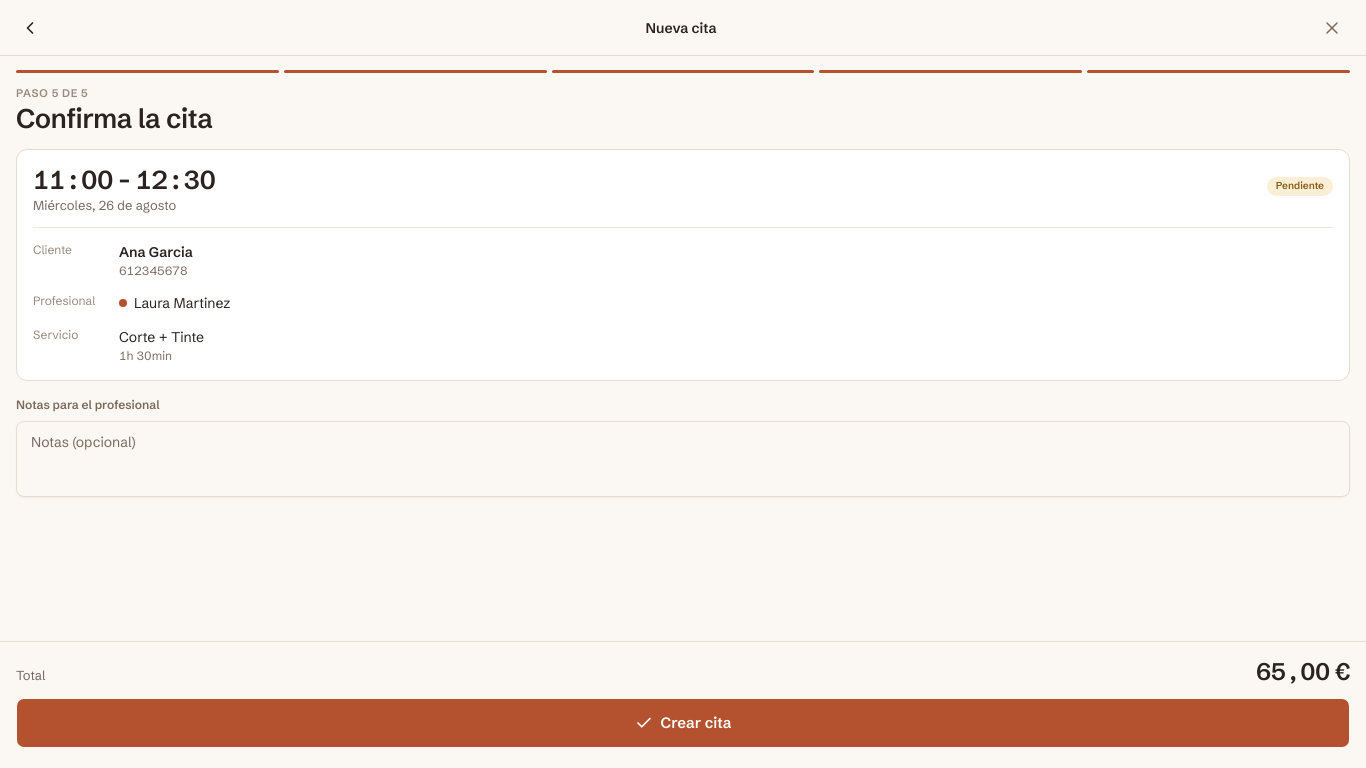
Test: ConfirmationStep › un fallo deja el paso en pie con el mensaje
Click the button "Crear cita": x=683, y=723 [16,698,1350,748]
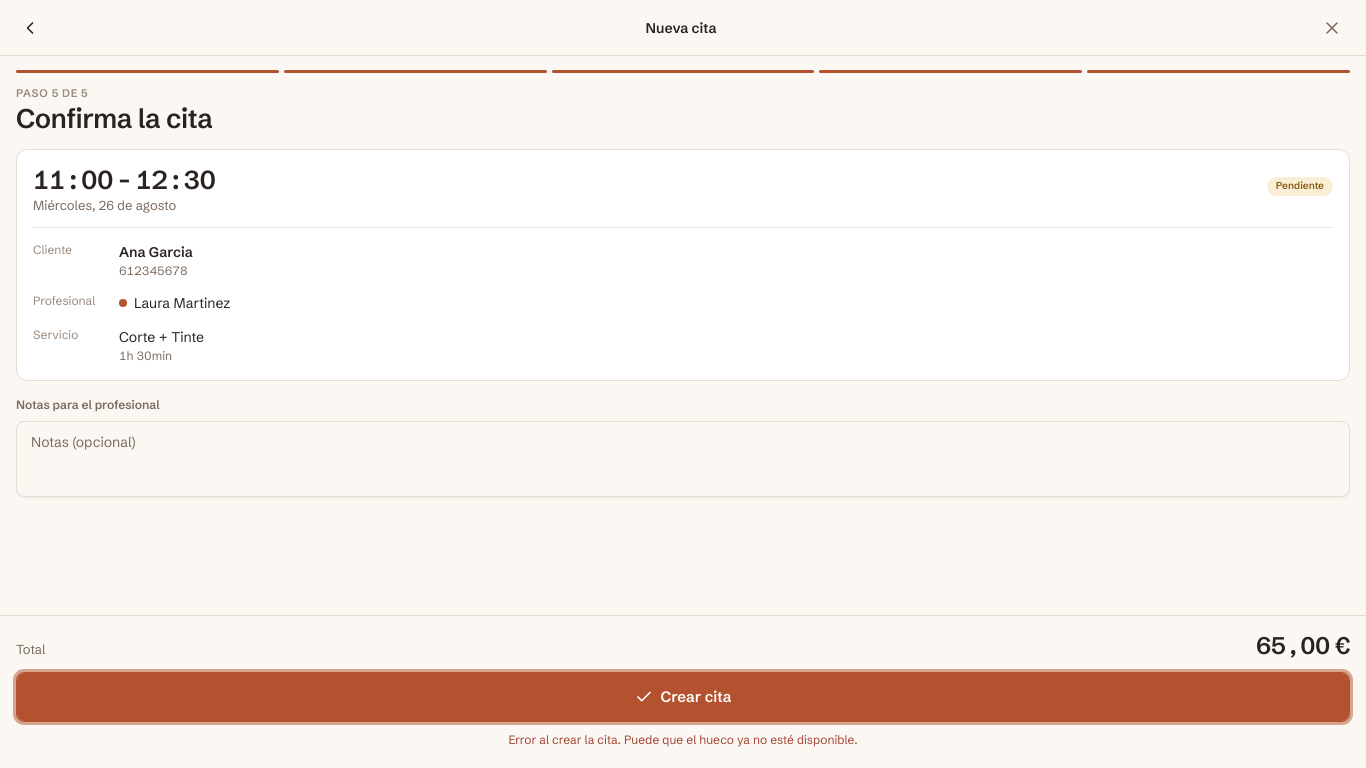
expect the button "Crear cita" is shown: met, box [16,672,1350,722]
expect the text "Error al crear la cita. Puede que el hueco ya no esté disponible." is shown: met, box [508,732,858,747]
